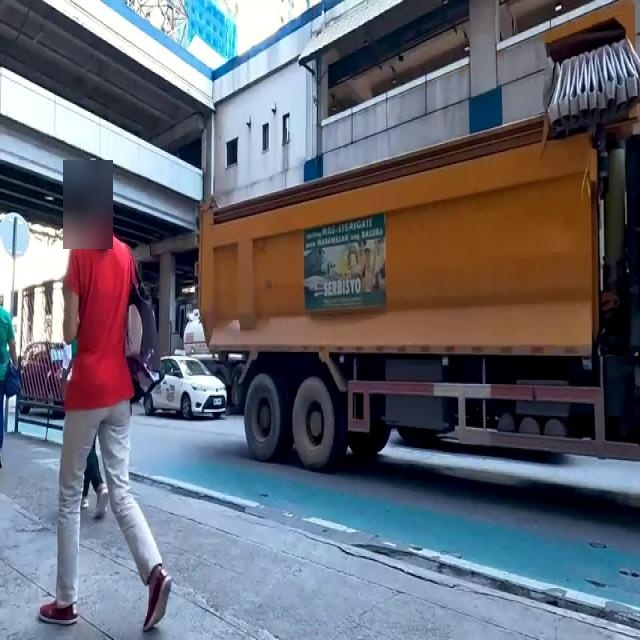car: (147, 351, 225, 421)
truck: (200, 90, 640, 490)
